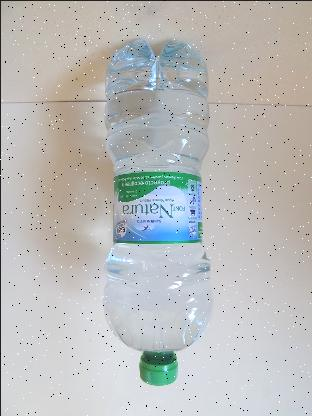Plastic Bottle: (90, 36, 218, 392)
